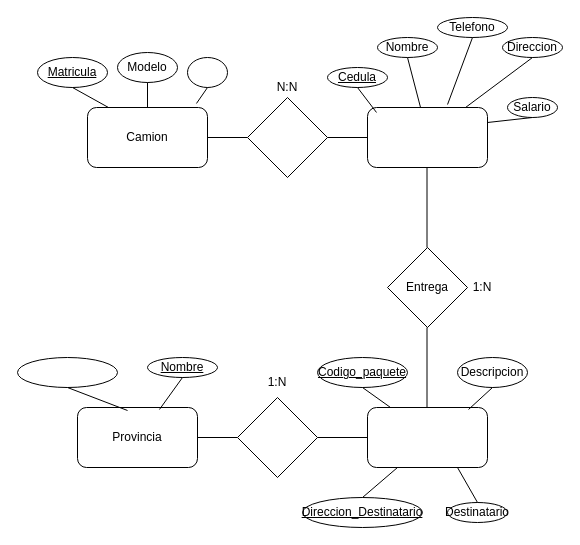
Some shapes in this 580 by 545 pixel diagram are drawn without their labels. Each missing label, with the centre of its shape:
"Camionero" goes at (427,137).
"Codigo_provincia" goes at (67,372).
"Color" goes at (207,72).
"Llegan" goes at (277,437).
"Manejar" goes at (287,137).
"Paquetes" goes at (427,437).
